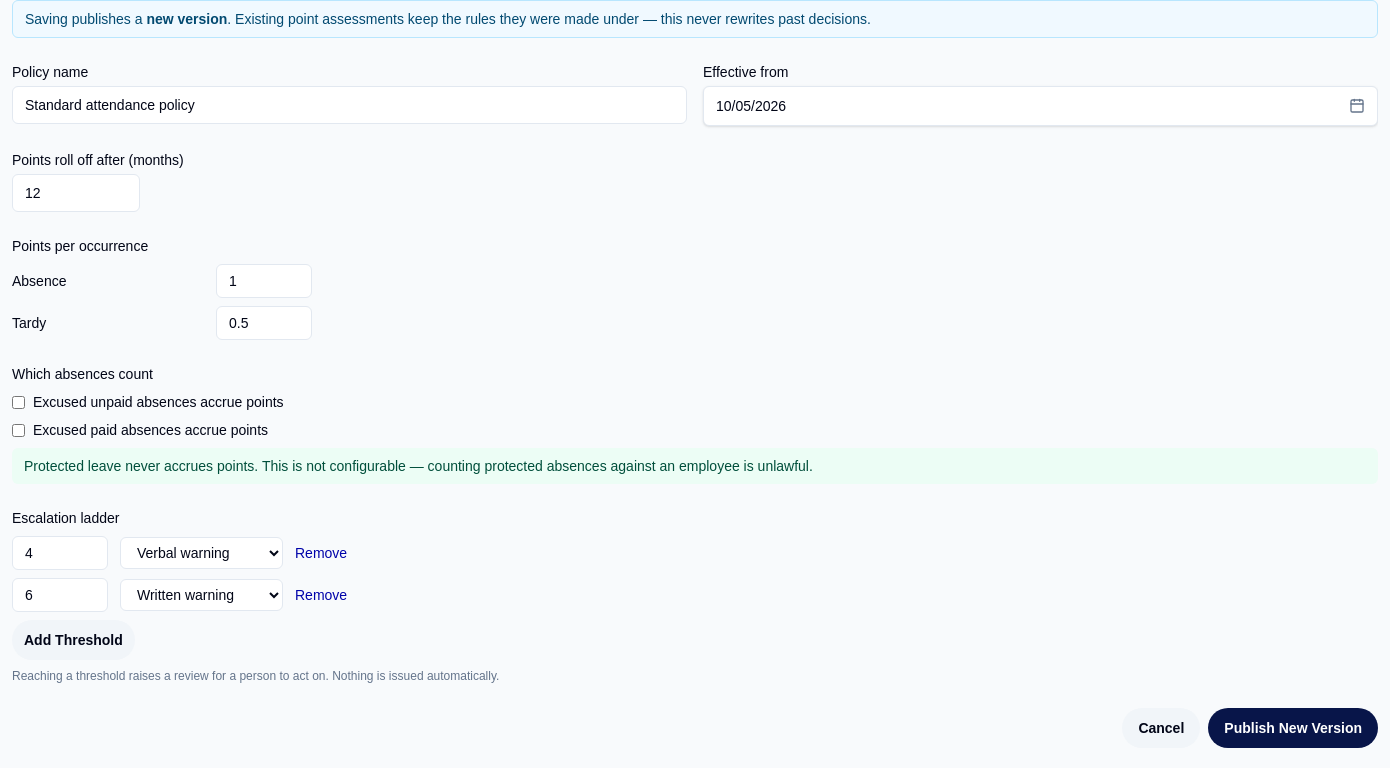
Test case: MhdAttendancePolicyEditor numeric fields › asks for a point total when a threshold is cleared
The width and height of the screenshot is (1390, 768).
Clear the 5th number field: (60, 595) [12,578,108,612]
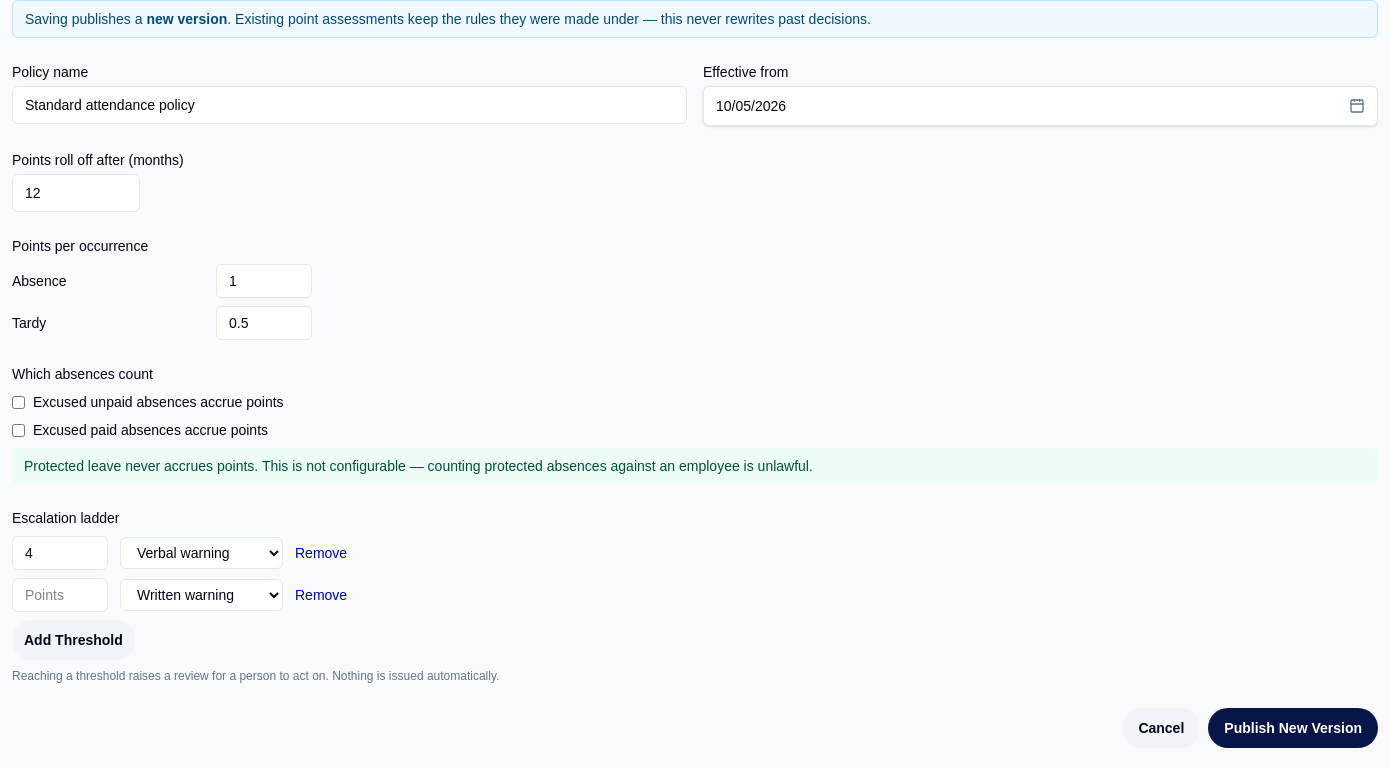
Click the button "Publish new version": (1293, 728) [1208,708,1378,748]
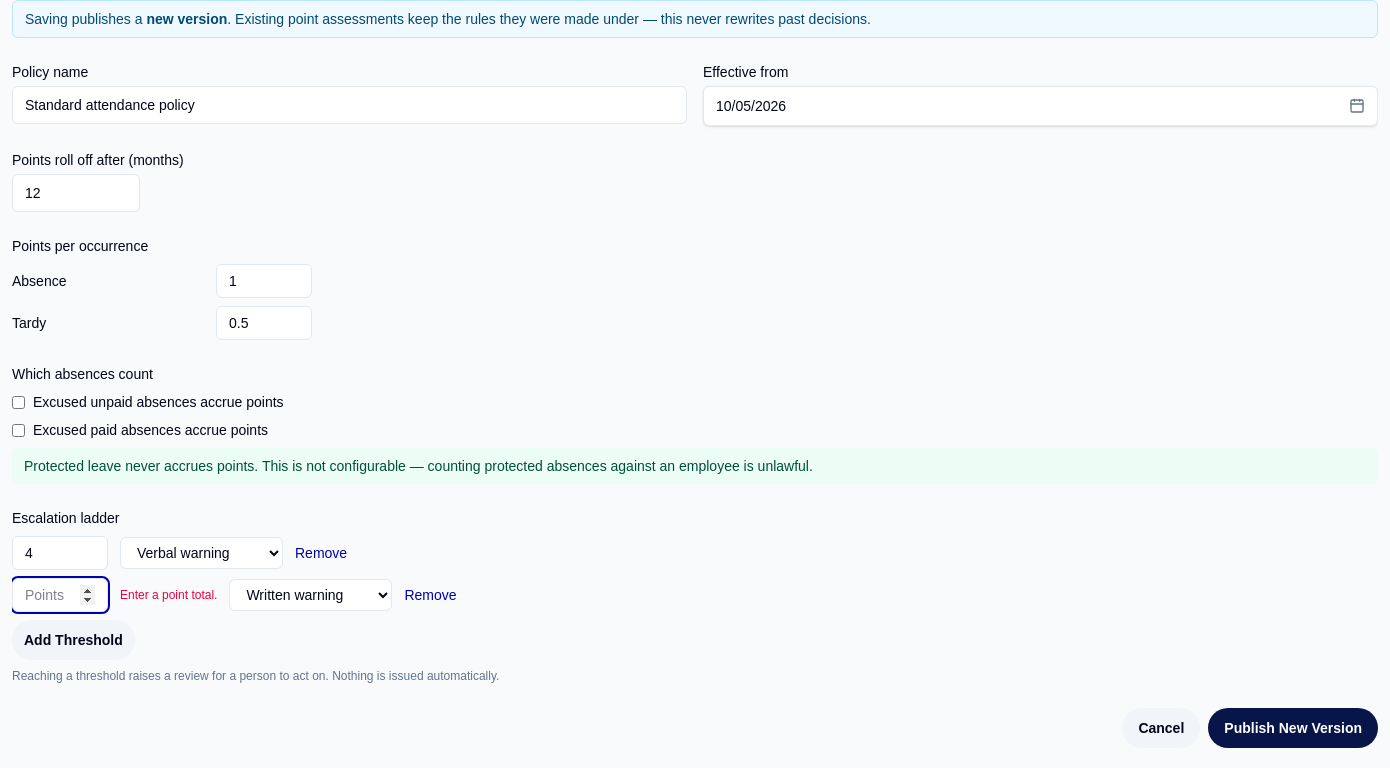
Result: the text "Enter a point total." is shown at [120,587,217,603]
